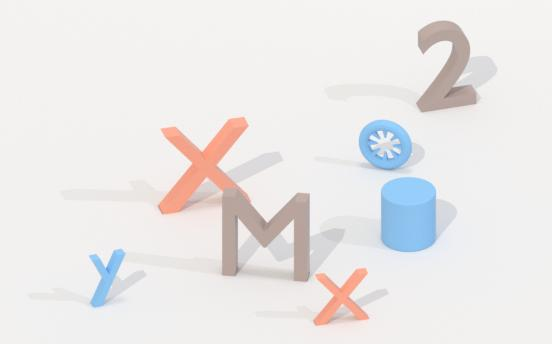2: (414, 17, 479, 117)
M-hoa: (216, 179, 317, 286)
Y: (85, 248, 128, 313)
tron: (356, 117, 413, 173)
tru: (380, 175, 439, 254)
x: (157, 113, 255, 218), (313, 264, 375, 331)
